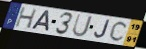3: (55, 12, 74, 36)
A: (29, 10, 51, 33)
C: (108, 21, 129, 43)
H: (14, 6, 39, 30)
J: (93, 19, 111, 39)
U: (71, 13, 93, 38)
